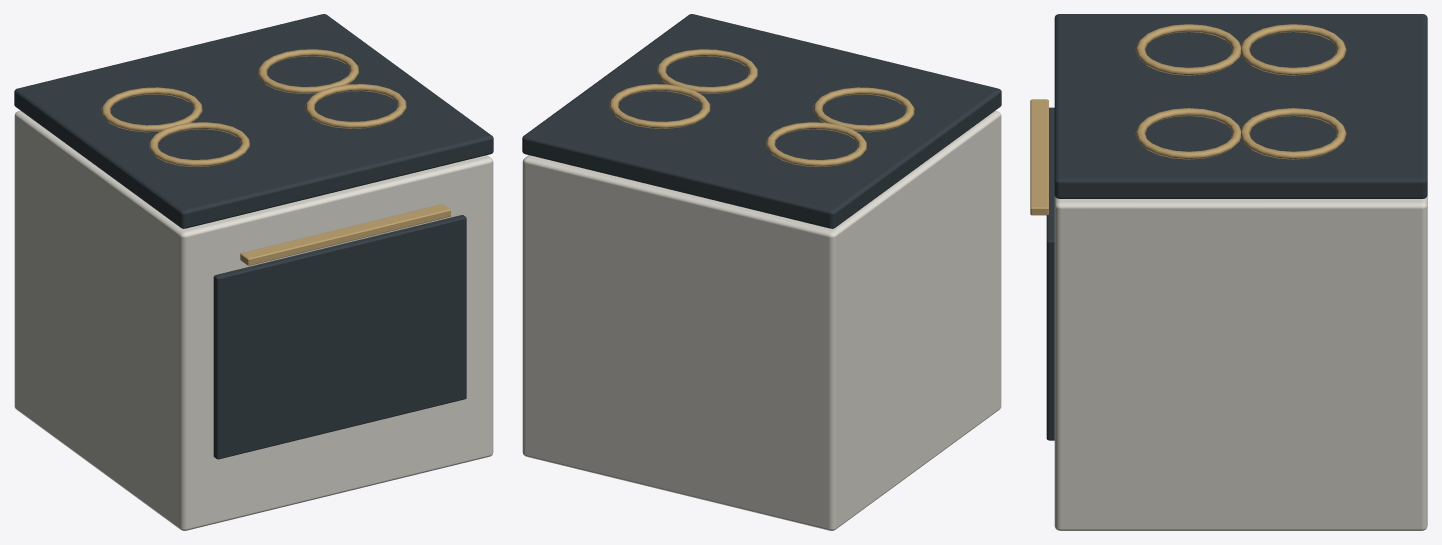
File: stove-8-0.glb
3 views of the same model, side by side, from view 1: azimuth 30°, elevation 25°; view 2: azimuth 150°, elevation 25°; view 3: azimuth 270°, elevation 25° (orthographic). The views are drawn at different scales.
Visible parts, largest first — view 1: upholstery (×2), part; view 2: upholstery (×2), part; view 3: upholstery (×2), part.
Boxes of the visible parts, x1=… form: upholstery (×2): x1=14, y1=14, x2=493, y2=530; part: x1=101, y1=49, x2=450, y2=265; upholstery (×2): x1=522, y1=14, x2=1001, y2=530; part: x1=609, y1=49, x2=914, y2=166; upholstery (×2): x1=1046, y1=14, x2=1427, y2=530; part: x1=1030, y1=24, x2=1346, y2=215.
Size of the model in its own units: 1 by 1 by 1.
